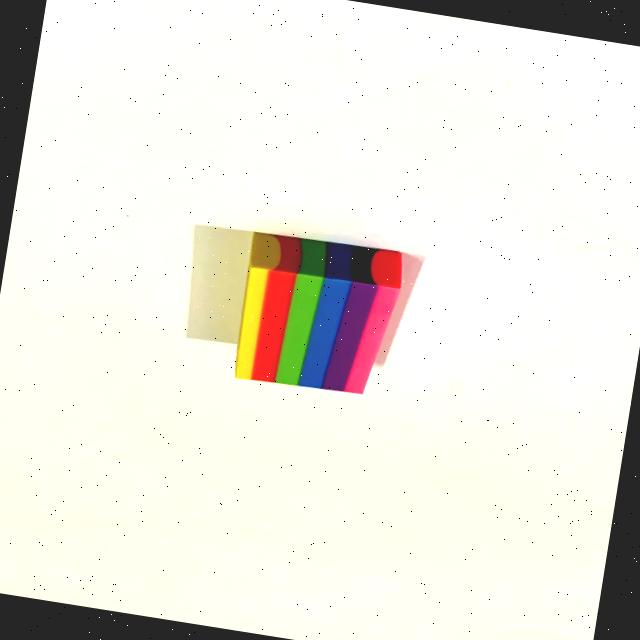Eraser: (176, 202, 444, 448)
